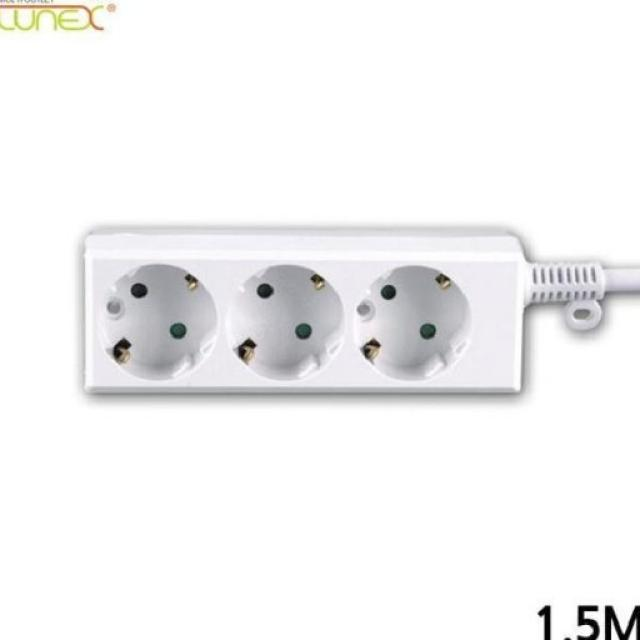typeb: (38, 200, 580, 445)
